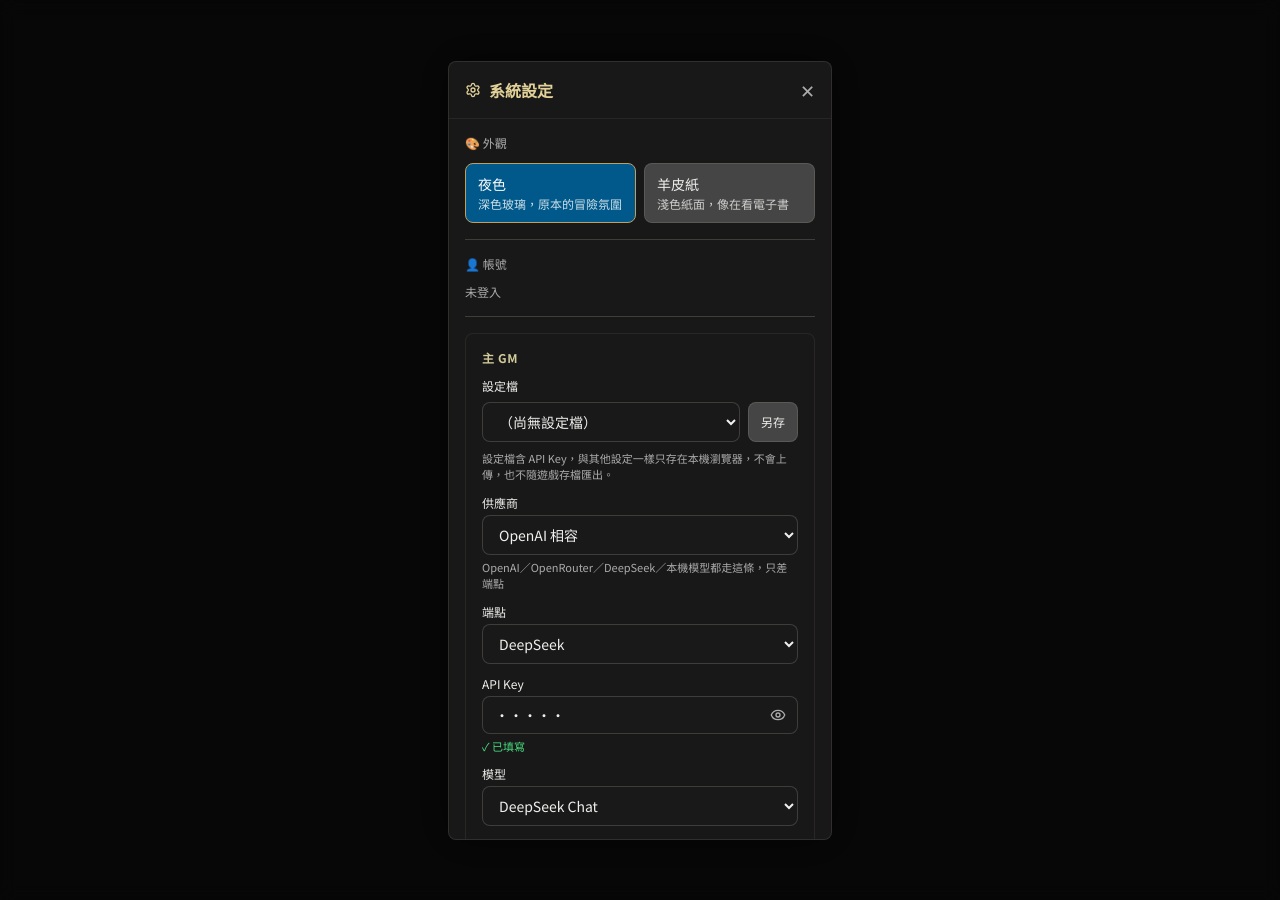
SettingsModal — 設定檔 › 存好之後下拉會自己顯示成套用中（由值推導，不存旗標）
Click the button "另存" at (773, 422), box [748,402,798,442]
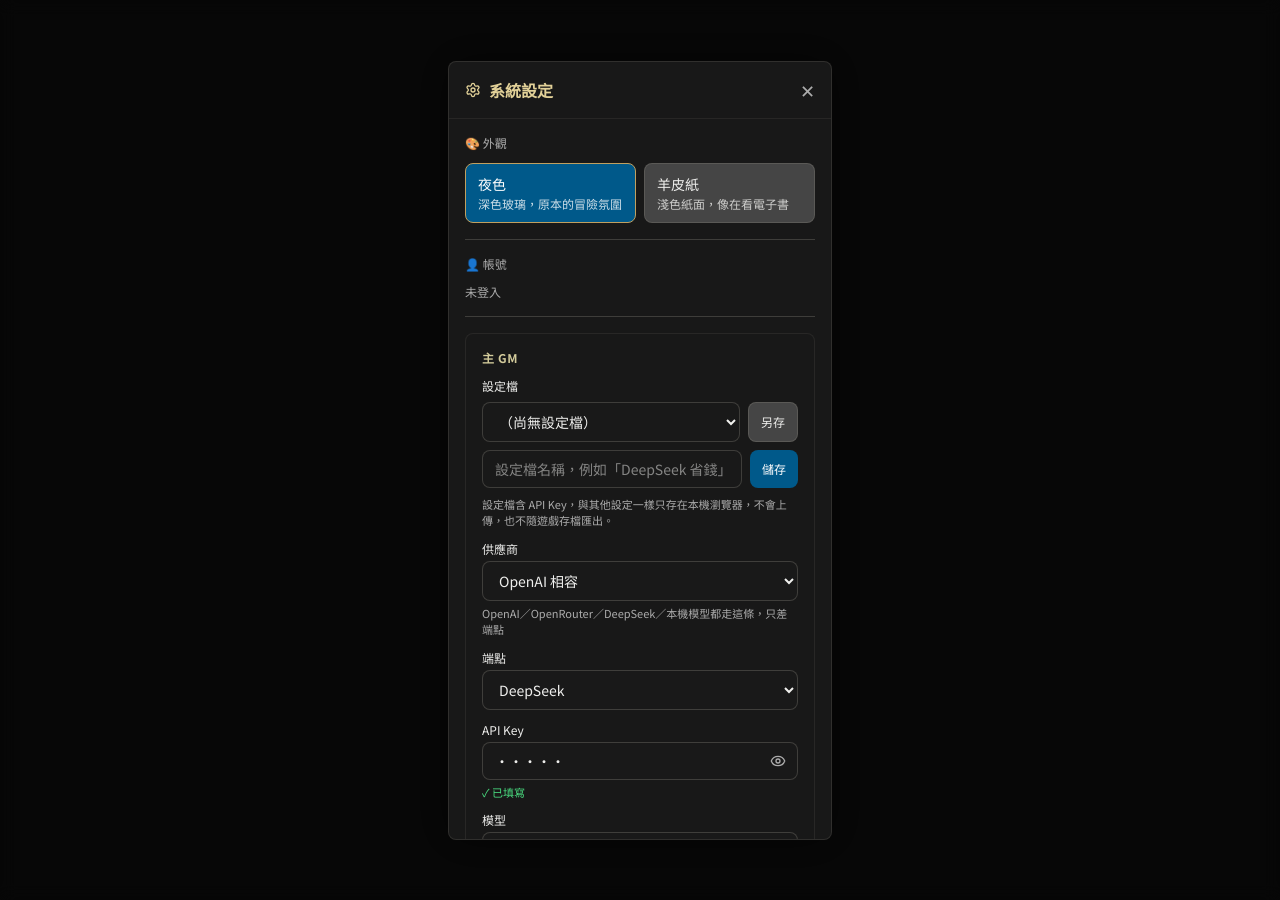
Type "DS" into the field labelled "設定檔名稱" at (612, 468), box [482,450,742,488]
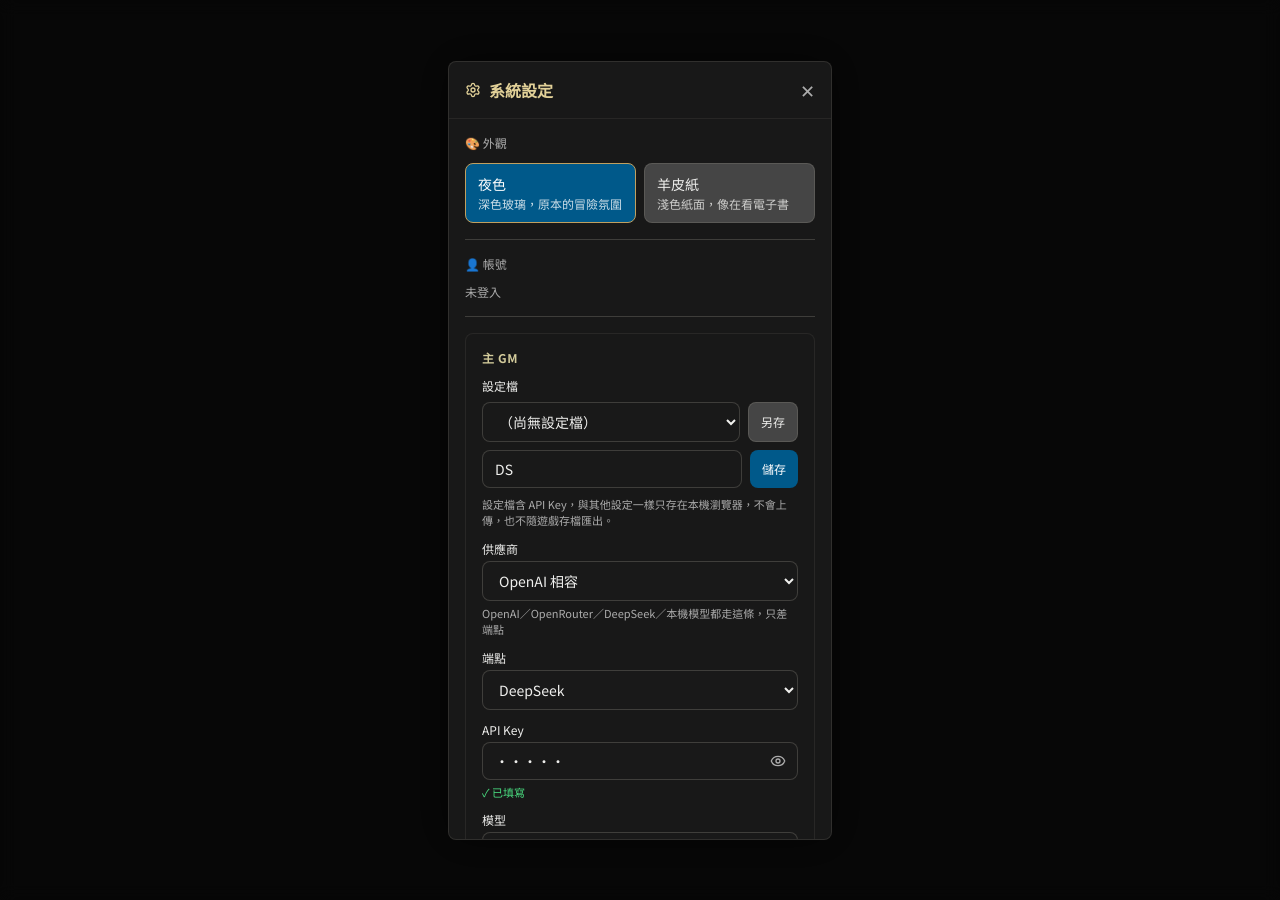
Click the button "儲存" at (774, 468), box [750,450,798,488]
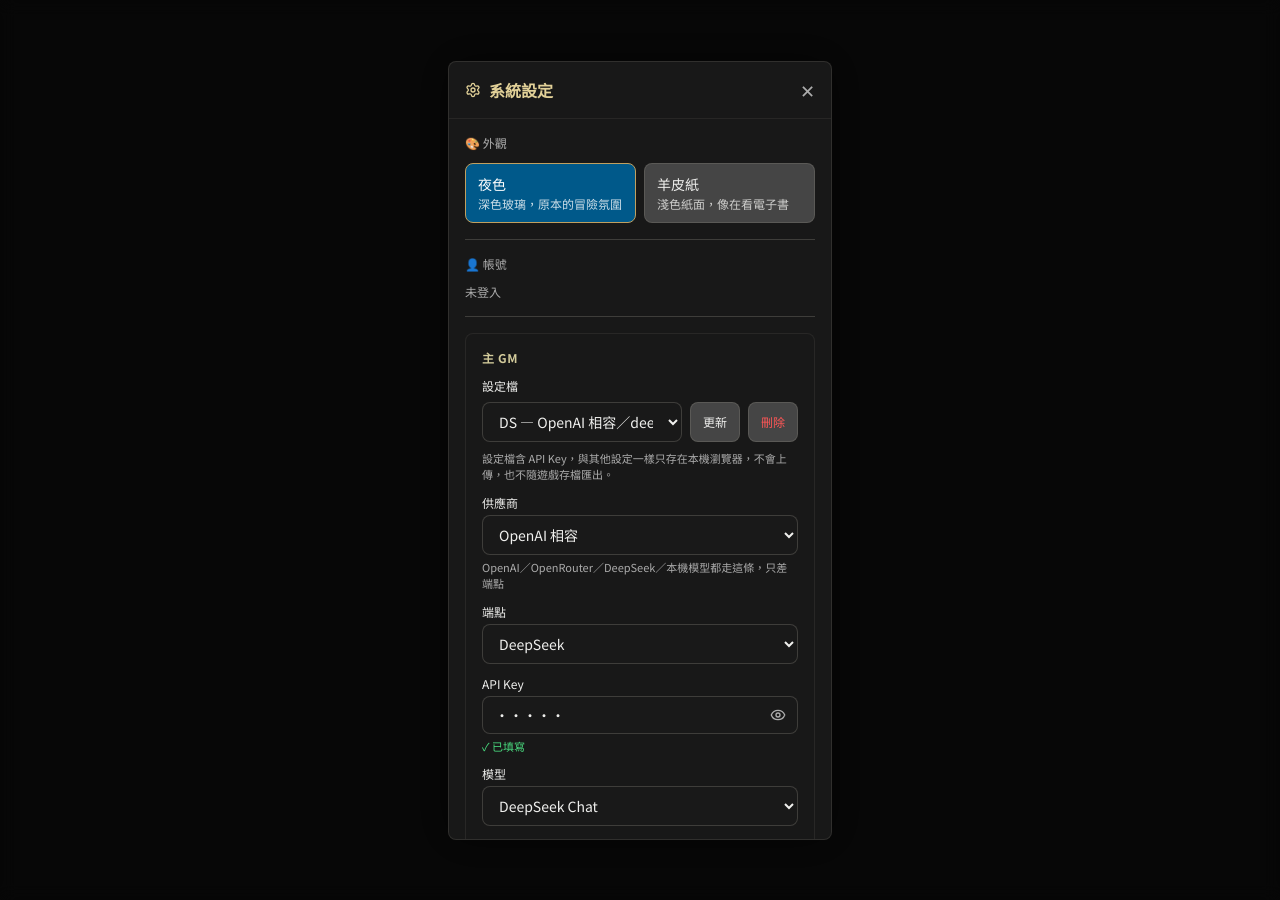
Expected: the button "更新" is shown, [690,402,740,442]
Expected: the button "刪除" is shown, [748,402,798,442]
